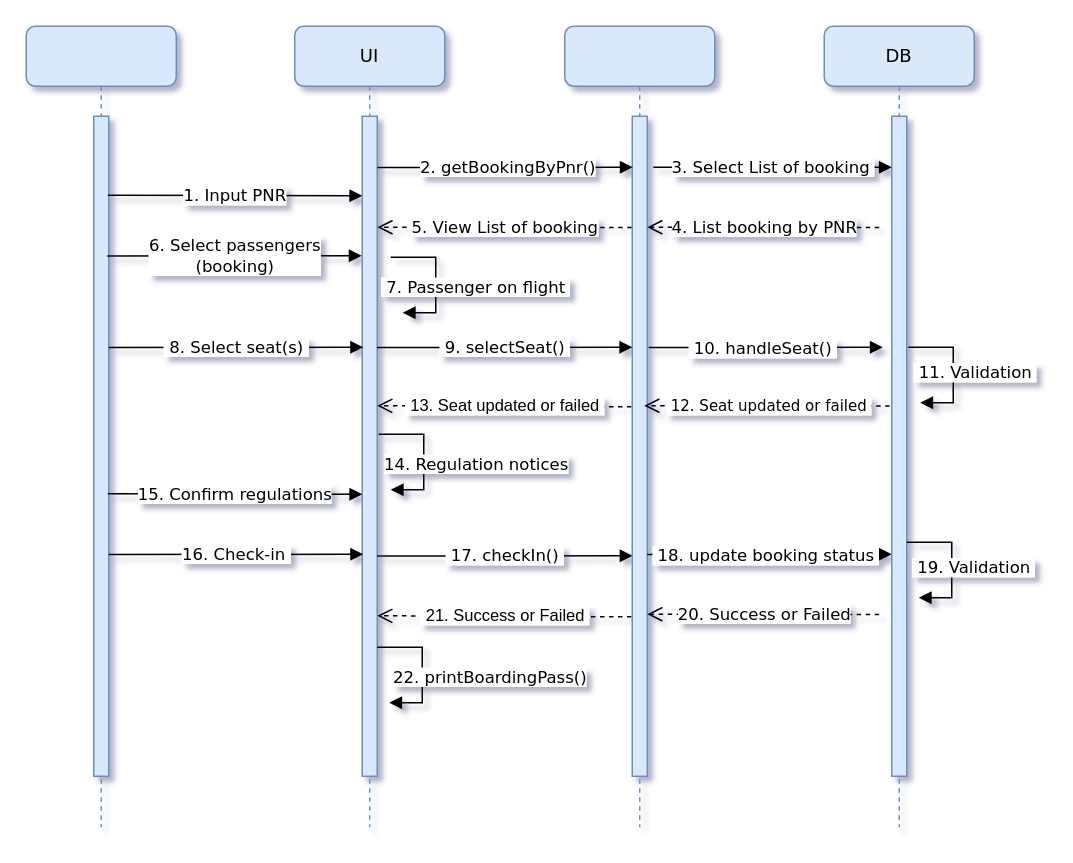
Some shapes in this 1073 by 863 pixel diagram are drawn without their labels. The shapes that lost their labels are listed below. From the top down, each one's box as (x1, y1, x2, y2) in pixels, then its label:
(25, 25, 176, 827): Passenger
(563, 25, 715, 827): Controller
